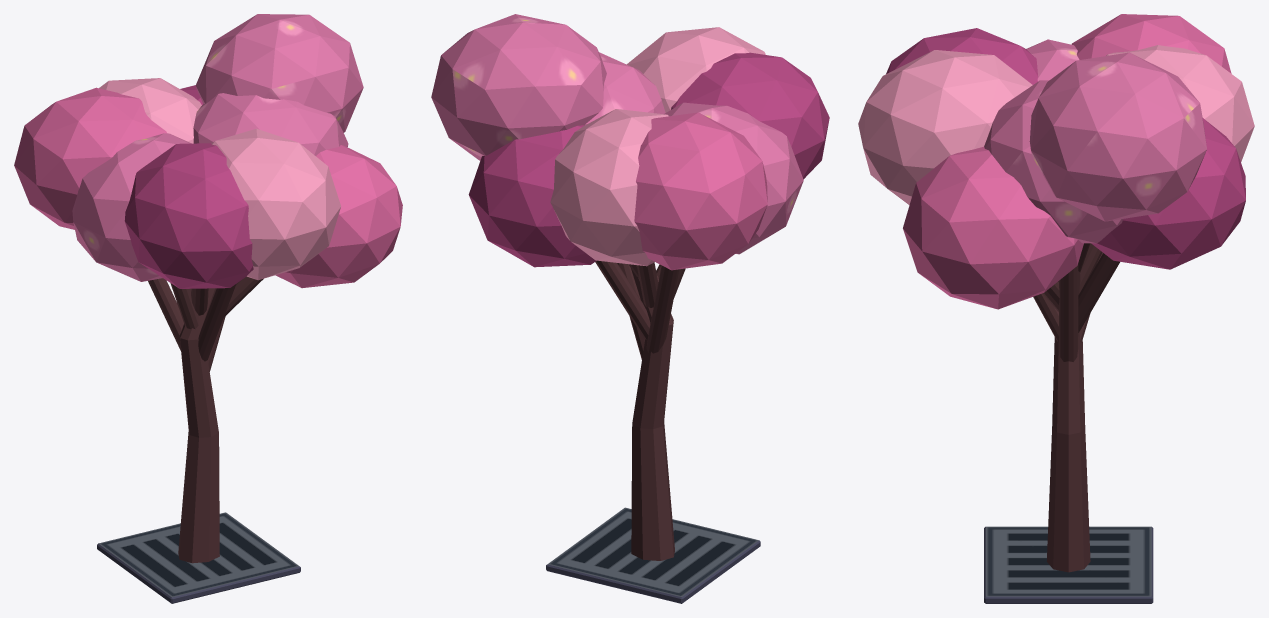
The model's file is flowering-street-tree.glb.
The picture shows the model from 3 angles, left to right: view 1: azimuth 30°, elevation 25°; view 2: azimuth 150°, elevation 25°; view 3: azimuth 270°, elevation 25°; orthographic projection. The views are drawn at different scales.
Visible parts, largest first — view 1: Blossom_cluster.007, Blossom_cluster.008, Blossom_cluster.002, Blossom_cluster.001, Tree_grate, Blossom_cluster.005, Trunk, Blossom_cluster.004, Blossom_cluster, Blossom_cluster.006, Branch.002, Branch.001 (+2 smaller); view 2: Blossom_cluster.008, Blossom_cluster.001, Blossom_cluster.006, Blossom_cluster.003, Tree_grate, Blossom_cluster.007, Trunk, Blossom_cluster.004, Blossom_cluster.002, Blossom_cluster, Branch.001, Branch.003 (+1 smaller); view 3: Blossom_cluster.008, Blossom_cluster.005, Blossom_cluster.002, Tree_grate, Blossom_cluster.003, Trunk, Blossom_cluster, Blossom_cluster.006, Blossom_cluster.001, Blossom_cluster.007, Branch, Blossom_cluster.004 (+2 smaller).
Boxes of the visible parts, bbox=[...] form: Blossom_cluster.007: bbox=[124, 143, 253, 288]; Blossom_cluster.008: bbox=[195, 14, 363, 132]; Blossom_cluster.002: bbox=[211, 128, 341, 280]; Blossom_cluster.001: bbox=[14, 87, 166, 229]; Tree_grate: bbox=[97, 512, 300, 603]; Blossom_cluster.005: bbox=[275, 145, 402, 288]; Trunk: bbox=[178, 288, 219, 563]; Blossom_cluster.004: bbox=[72, 133, 191, 281]; Blossom_cluster: bbox=[193, 93, 348, 155]; Blossom_cluster.006: bbox=[99, 78, 201, 143]; Branch.002: bbox=[198, 284, 236, 361]; Branch.001: bbox=[148, 278, 183, 350]; Blossom_cluster.008: bbox=[431, 14, 606, 160]; Blossom_cluster.001: bbox=[634, 112, 767, 270]; Blossom_cluster.006: bbox=[550, 109, 668, 266]; Blossom_cluster.003: bbox=[468, 125, 596, 267]; Tree_grate: bbox=[546, 507, 760, 603]; Blossom_cluster.007: bbox=[671, 52, 829, 179]; Trunk: bbox=[631, 268, 674, 560]; Blossom_cluster.004: bbox=[664, 102, 803, 254]; Blossom_cluster.002: bbox=[627, 27, 765, 112]; Blossom_cluster: bbox=[585, 52, 665, 125]; Branch.001: bbox=[646, 265, 679, 353]; Branch.003: bbox=[595, 260, 650, 339]; Blossom_cluster.008: bbox=[1029, 52, 1206, 221]; Blossom_cluster.005: bbox=[903, 146, 1083, 309]; Blossom_cluster.002: bbox=[858, 50, 1032, 204]; Tree_grate: bbox=[984, 526, 1153, 603]; Blossom_cluster.003: bbox=[1091, 118, 1245, 269]; Trunk: bbox=[1046, 271, 1090, 572]; Blossom_cluster: bbox=[984, 80, 1123, 243]; Blossom_cluster.006: bbox=[1106, 45, 1254, 161]; Blossom_cluster.001: bbox=[1071, 14, 1231, 73]; Blossom_cluster.007: bbox=[886, 28, 1038, 84]; Branch: bbox=[1059, 263, 1078, 361]; Blossom_cluster.004: bbox=[1026, 39, 1079, 81].
Size of the model in its own units: 2.22 by 3.38 by 2.16.
1 material, 1 textured.
